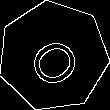O_NE: (20, 24, 87, 88)
